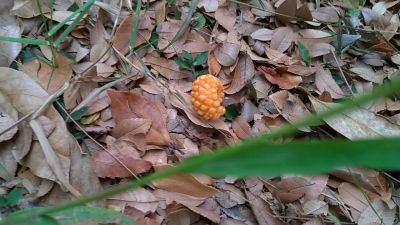eggs: (188, 69, 229, 123)
